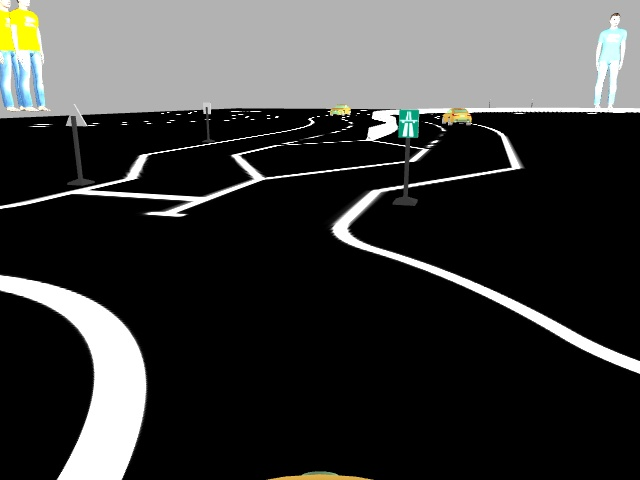HighwayEntrance: (396, 107, 420, 137)
